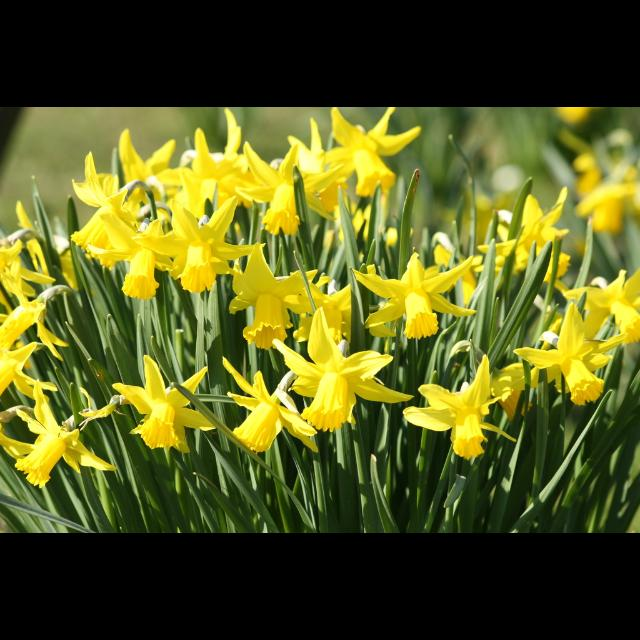Flower: (272, 306, 406, 426), (1, 376, 113, 488), (142, 198, 266, 294), (408, 352, 508, 461), (514, 299, 618, 403), (348, 252, 469, 336), (112, 354, 218, 446), (225, 240, 317, 346), (238, 143, 344, 234), (223, 356, 317, 450), (476, 188, 574, 278), (332, 107, 418, 195), (157, 125, 239, 211), (86, 220, 172, 300), (68, 152, 132, 252), (1, 298, 69, 390), (570, 150, 640, 228), (579, 266, 639, 342), (0, 239, 56, 295), (120, 129, 178, 181)
